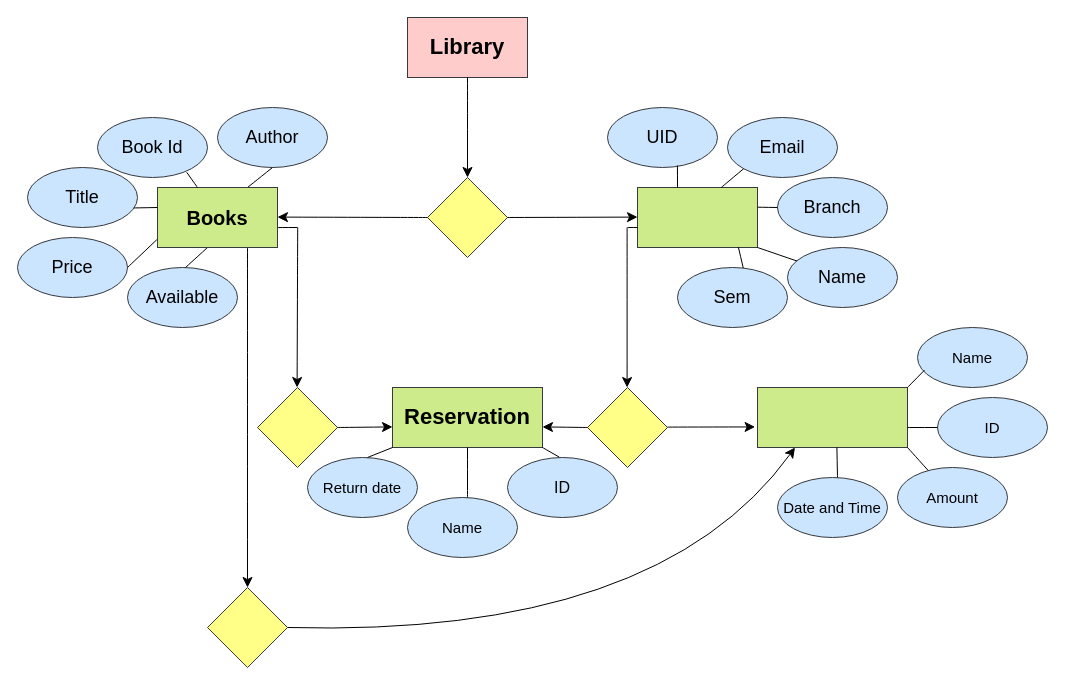
Some shapes in this 1065 by 685 pixel diagram are drawn without their labels. Here are the shapes that lost their labels. From the top down, the box of each, then its label:
(426, 176, 508, 258): Has
(636, 186, 758, 248): Member
(256, 386, 338, 468): Have
(586, 386, 668, 468): Makes
(756, 386, 908, 448): Loan
(206, 586, 288, 668): On
